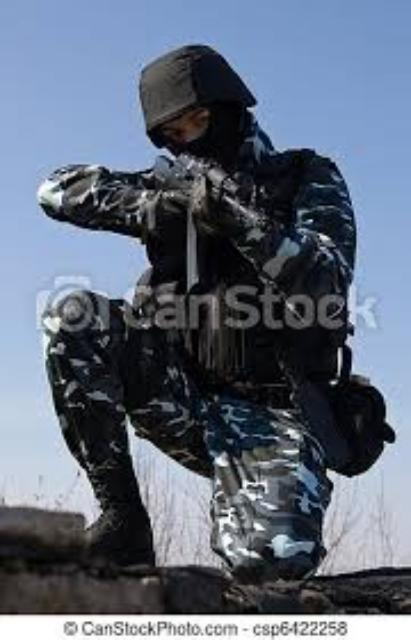other: (37, 48, 374, 590)
